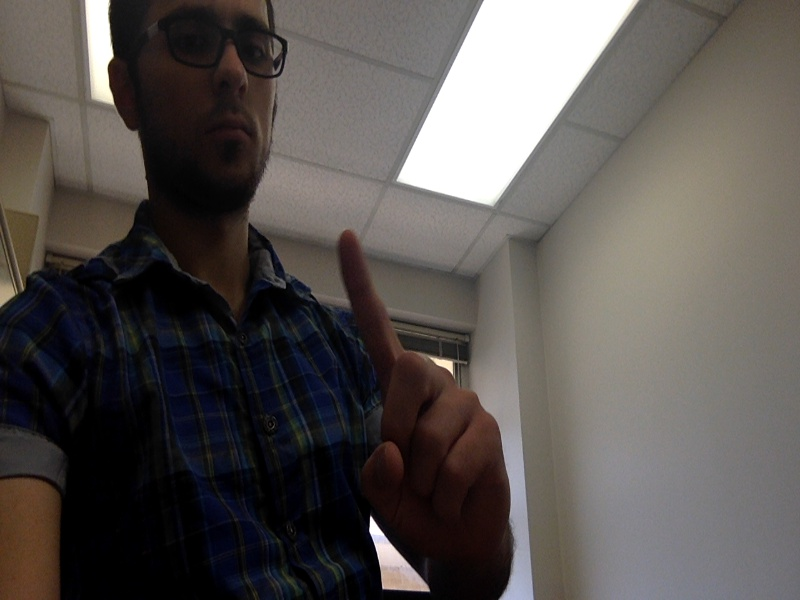1-hand: (336, 230, 526, 537)
